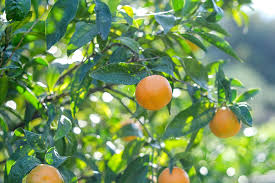orange: (135, 73, 173, 110), (208, 103, 242, 137), (22, 161, 66, 183), (155, 163, 191, 183)
